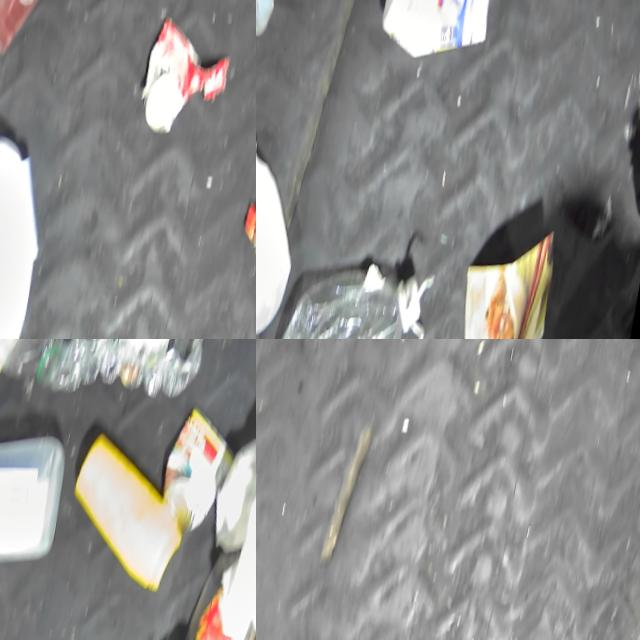can: (155, 407, 243, 548), (134, 17, 209, 149)
milk_jug: (256, 128, 317, 339), (0, 127, 60, 339), (0, 422, 72, 577)
non_white_jug: (58, 426, 202, 608)
plastic_bottle: (267, 247, 441, 339)
